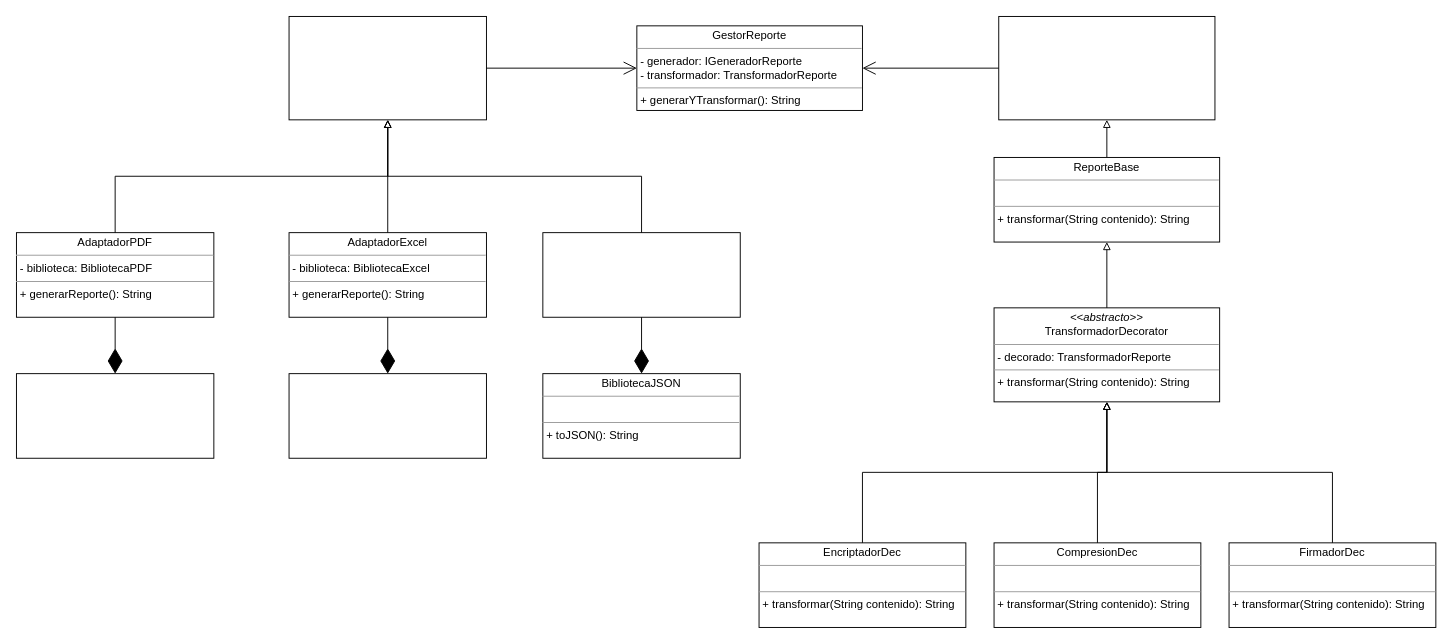
The diagram is 1452 pixels wide and 644 high, and some of its shapes have lost their labels. Each missing label, with the centre of its shape:
"<<Interface>> IGeneradorReporte + generarReporte()" belongs at (387,68).
"<<Interface>> ITransformadorReporte + transformar(String contenido): String" belongs at (1106,68).
"AdaptadorJSON - biblioteca: BibliotecaJSON + generarReporte(): String" belongs at (641,274).
"BibliotecaExcel + generarXLS(): String" belongs at (387,415).
"BibliotecaPDF + crearPDF(): String" belongs at (115,415).
